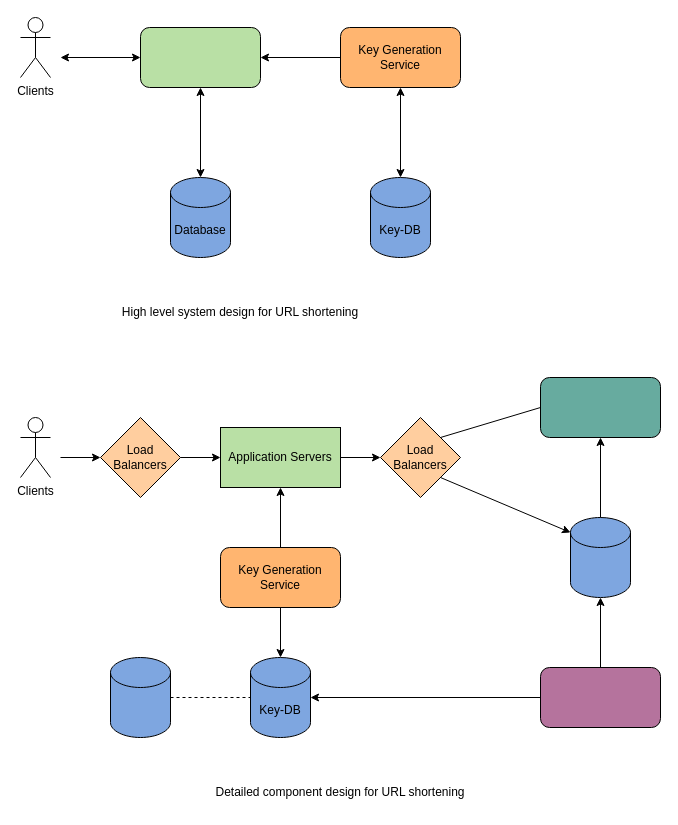
This 678x825 diagram has some shape labels left out. The shapes that lost their labels are listed below. From the top down, each one's centre as x and y in pixels, then its label:
At point 200,57: "Application Server".
At point 600,407: "Cache Servers".
At point 600,557: "Database Servers".
At point 140,697: "Key-DB (standby)".
At point 600,697: "Cleanup Service".
